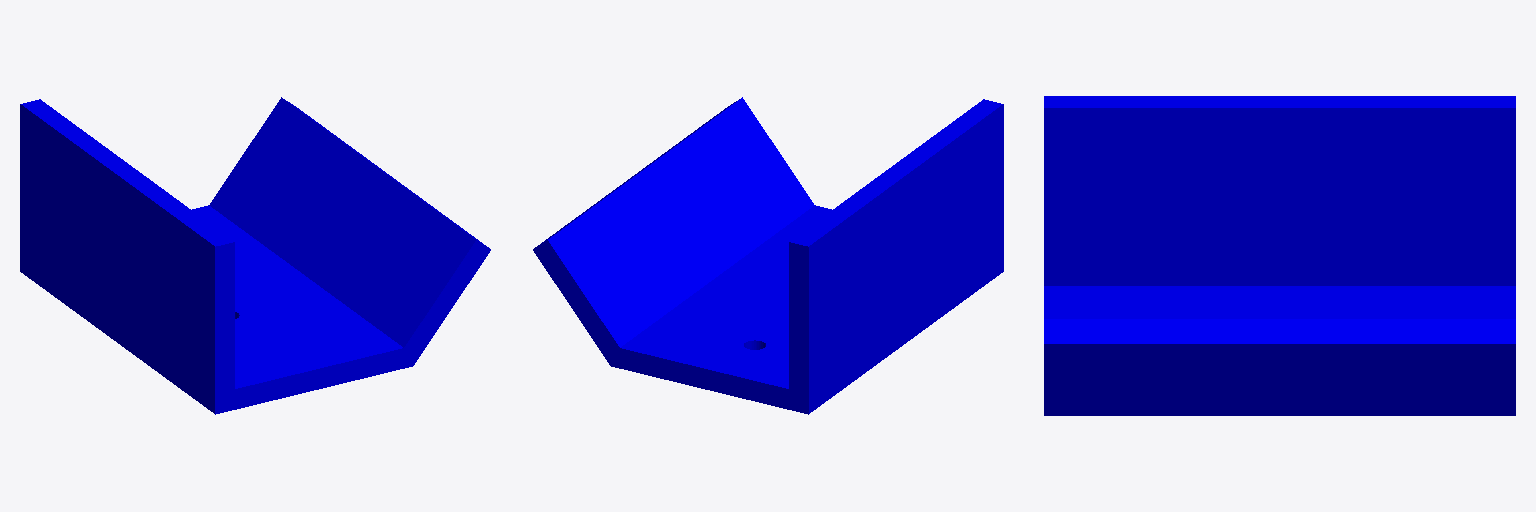
The robot description file, URDF, robot "board_fixture":
<?xml version="1.0"?>
<robot name="board_fixture">
    <link name="board_fixture">
        <visual>
            <origin xyz="0 0 0 " rpy=" 0 0 0"/>
            <geometry>
                <mesh filename="./Board_Fixture.stl" scale="0.001 0.001 0.001"/>
            </geometry>
            <material name="red">
                <color rgba="0.0 0.0 1.0 1.0"/>
            </material>
        </visual>
        <collision>
            <origin xyz="0 0 0" rpy="0 0 0"/>
            <geometry>
                <mesh filename="./Board_Fixture.stl" />
            </geometry>
        </collision>
    </link>
</robot>

--- What the picture shows (computed from the rendered views, not written in the file) ---
Views: 3 orthographic renders of the robot side by side, from view 1: azimuth 30°, elevation 25°; view 2: azimuth 150°, elevation 25°; view 3: azimuth 270°, elevation 25°.
Robot: board_fixture — 1 links, 0 joints (none); root link board_fixture; default pose: all joints at 0.
Visible links, largest first — view 1: board_fixture; view 2: board_fixture; view 3: board_fixture.
Link boxes in pixels (x1,y1,x2,y2): board_fixture: [20, 97, 490, 414]; board_fixture: [533, 97, 1003, 414]; board_fixture: [1044, 96, 1515, 415].
Size in the robot's own frame: 0.0981 by 0.12 by 0.057 metres.
1 mesh visuals loaded from 1 distinct referenced files (1 ASCII STL).